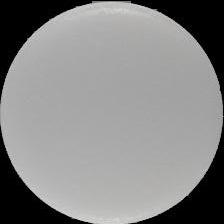0603-4485: (0, 0, 224, 224)
